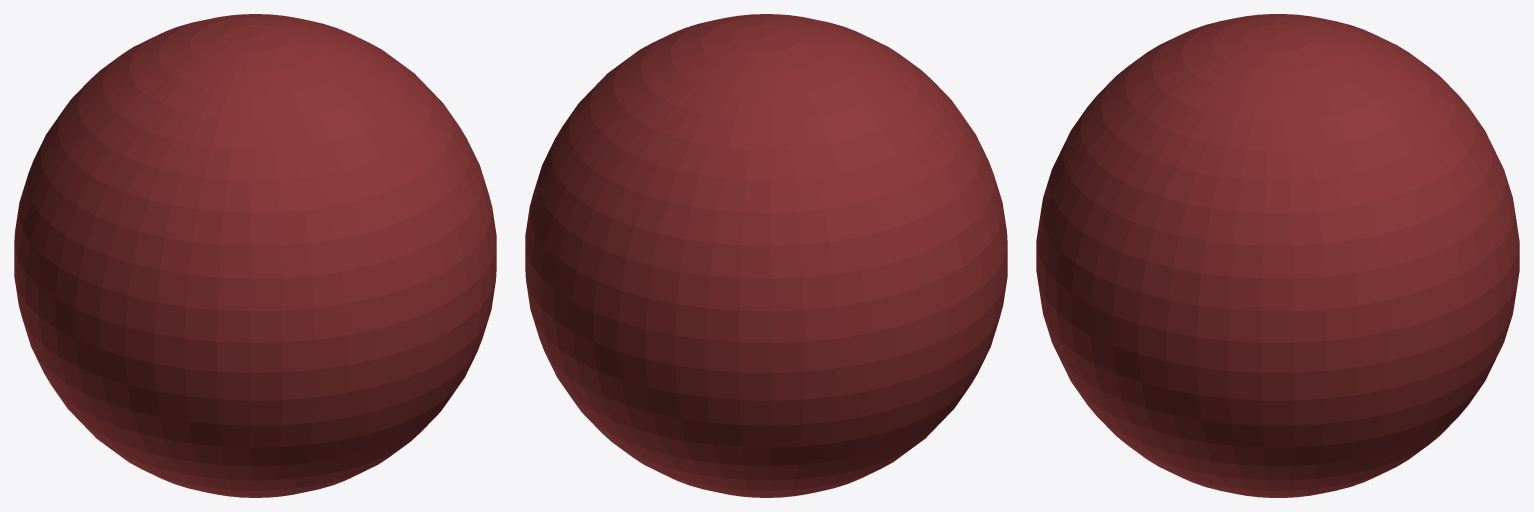
The model's file is venus.obj.
3 views of the same model, side by side, from view 1: azimuth 30°, elevation 25°; view 2: azimuth 150°, elevation 25°; view 3: azimuth 270°, elevation 25° (orthographic).
Bounding box in the file's own units: 157 × 157 × 157.
